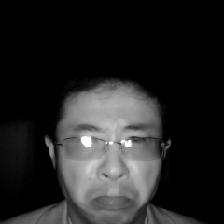sad: (36, 64, 176, 224)
